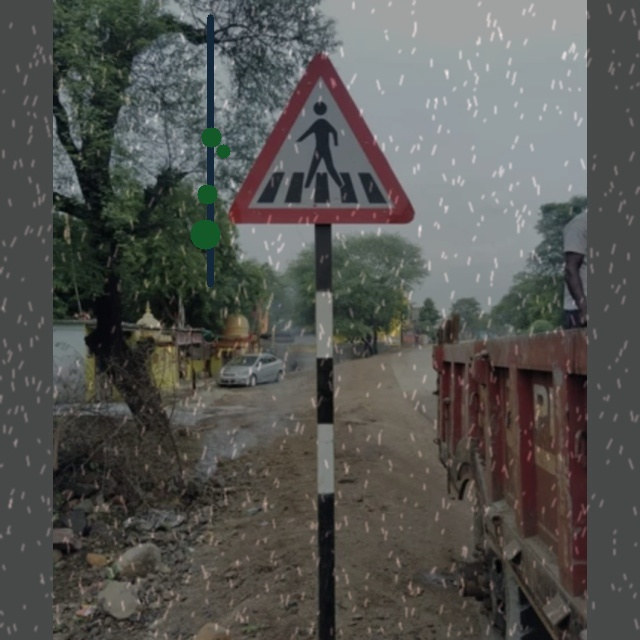Pedestrian_Crossing: (231, 57, 425, 229)
